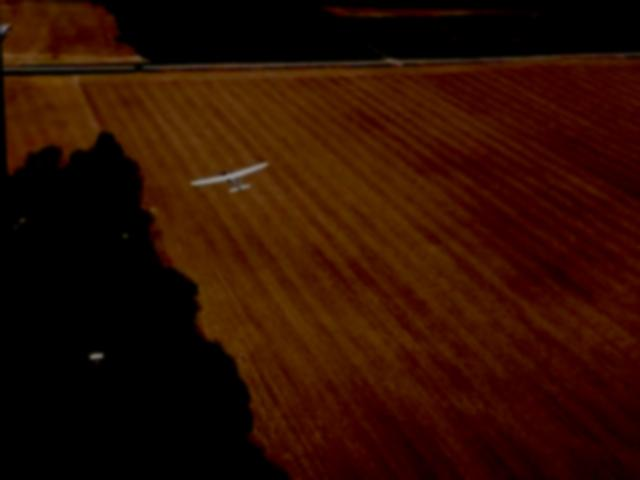iha: (190, 159, 268, 192)
